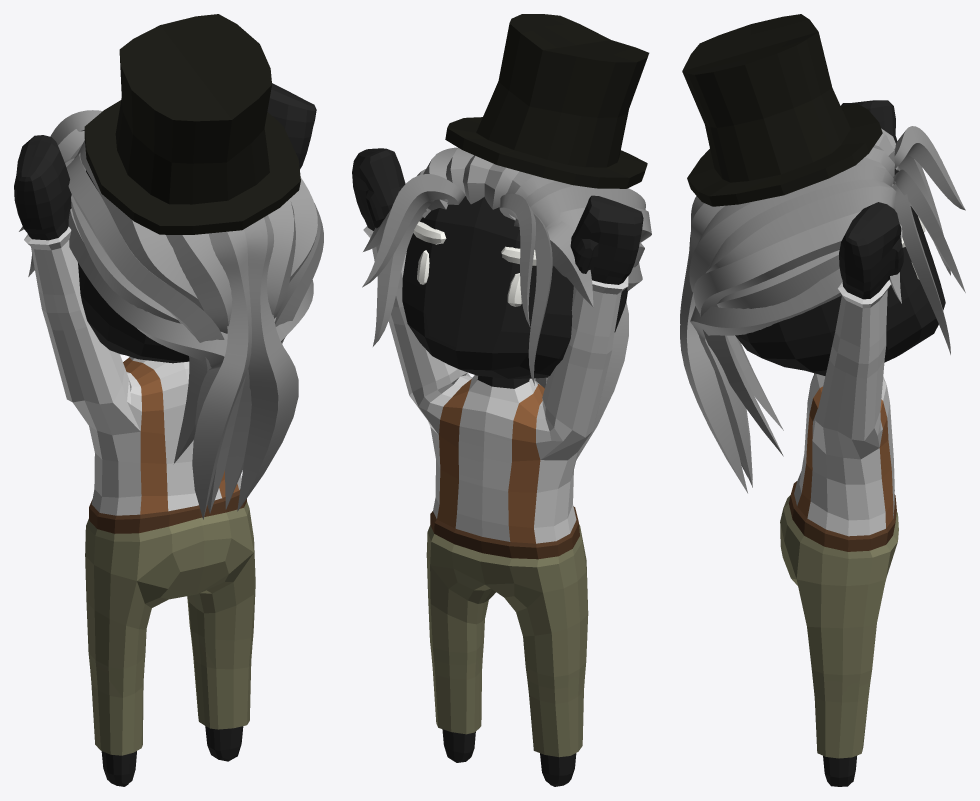
File: Moun_OldClassy_Female_Cheer.fbx
The picture shows the model from 3 angles, left to right: view 1: azimuth 30°, elevation 25°; view 2: azimuth 150°, elevation 25°; view 3: azimuth 270°, elevation 25°; orthographic projection. The views are drawn at different scales.
Parts seen in each view (by area): view 1: Moun_OldClassy_Female_Cheer; view 2: Moun_OldClassy_Female_Cheer; view 3: Moun_OldClassy_Female_Cheer.
Part boxes in pixels (<box>): Moun_OldClassy_Female_Cheer: <box>14,14,323,786</box>; Moun_OldClassy_Female_Cheer: <box>352,14,651,786</box>; Moun_OldClassy_Female_Cheer: <box>680,14,965,786</box>.
Bounding box in the file's own units: 0.799 × 1.96 × 0.6973.
